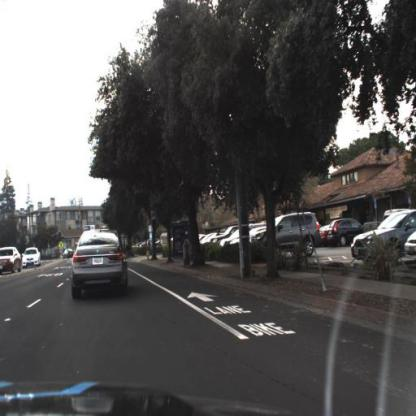car: (70, 226, 133, 299), (353, 210, 416, 269), (250, 214, 324, 259), (220, 219, 269, 249), (329, 215, 363, 247), (2, 245, 24, 285), (212, 220, 237, 247), (198, 219, 216, 250), (24, 247, 46, 271), (62, 242, 76, 266), (63, 246, 74, 259)
